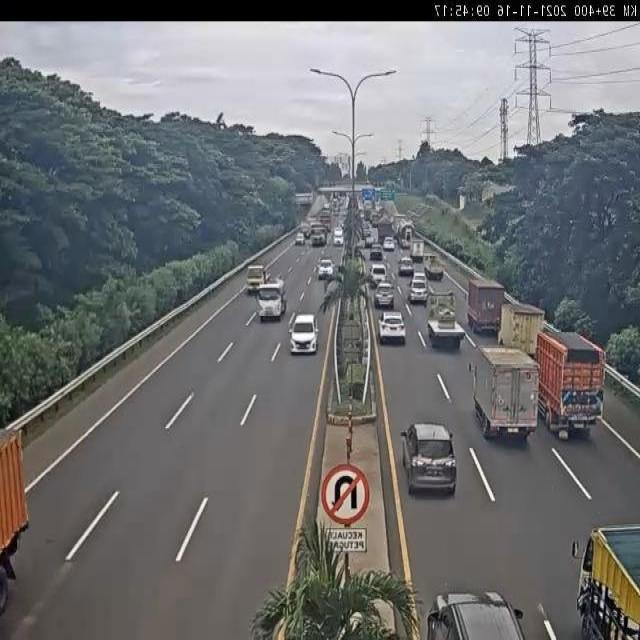Bus: (256, 279, 286, 322)
Car: (422, 589, 528, 638), (402, 423, 458, 497), (288, 312, 318, 354), (378, 310, 407, 346), (409, 274, 428, 304), (374, 282, 395, 308), (370, 262, 387, 284), (318, 258, 334, 280), (398, 256, 414, 277), (369, 243, 383, 261), (383, 237, 395, 252), (296, 232, 304, 245)
Truck: (536, 329, 606, 439), (575, 524, 640, 639), (472, 345, 539, 446), (427, 289, 468, 351), (498, 302, 543, 356), (467, 276, 503, 332), (422, 253, 444, 280), (311, 222, 327, 246), (334, 228, 344, 247)
